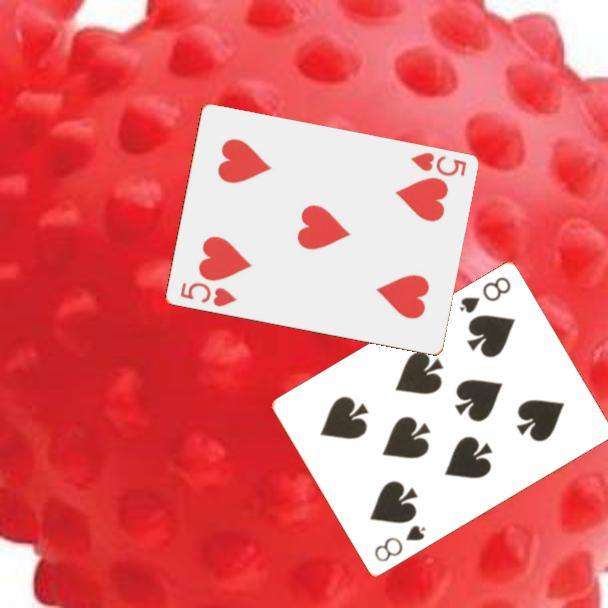h05: (176, 279, 239, 310), (407, 149, 469, 179)
s08: (455, 274, 514, 317), (371, 522, 428, 565)
